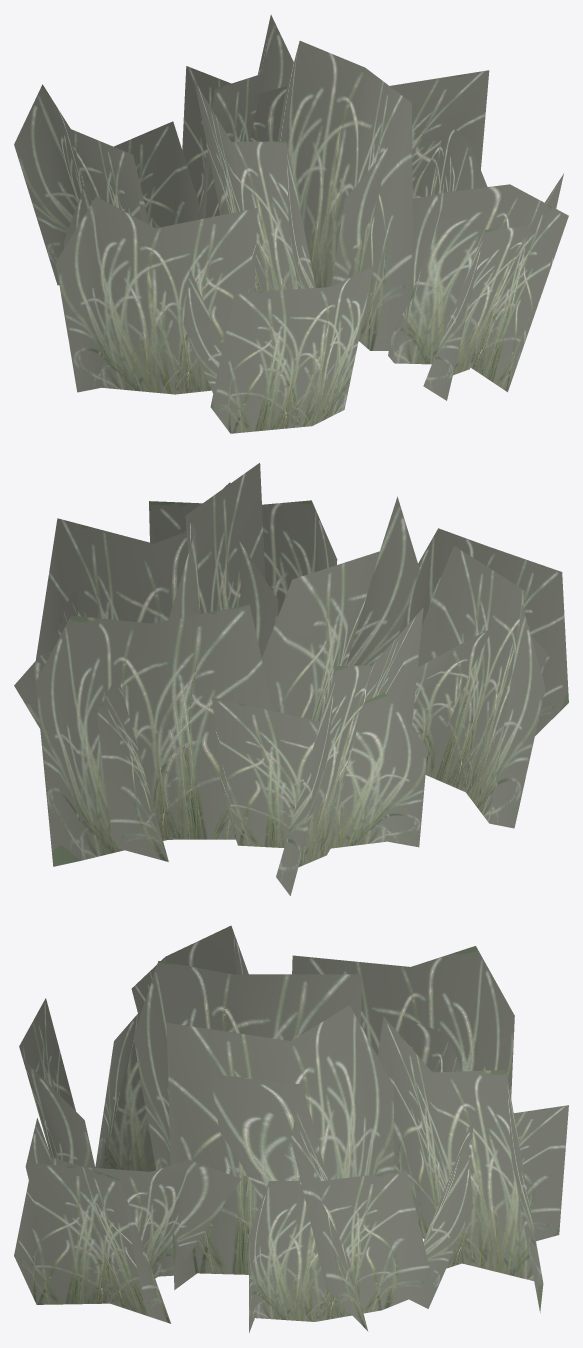
Rendered from proc_grasses01.FBX.
3 views of the same model, one above another, from view 1: azimuth 30°, elevation 25°; view 2: azimuth 150°, elevation 25°; view 3: azimuth 270°, elevation 25° (orthographic). The views are drawn at different scales.
Visible parts, largest first — view 1: proc_grasses01; view 2: proc_grasses01; view 3: proc_grasses01.
Part boxes in pixels (left/top/right/bottom): proc_grasses01: left=14, top=15, right=568, bottom=433; proc_grasses01: left=14, top=463, right=568, bottom=895; proc_grasses01: left=14, top=925, right=568, bottom=1332.
Size of the model in its own units: 2.18 by 2.17 by 1.23.
1 material, 1 textured.
